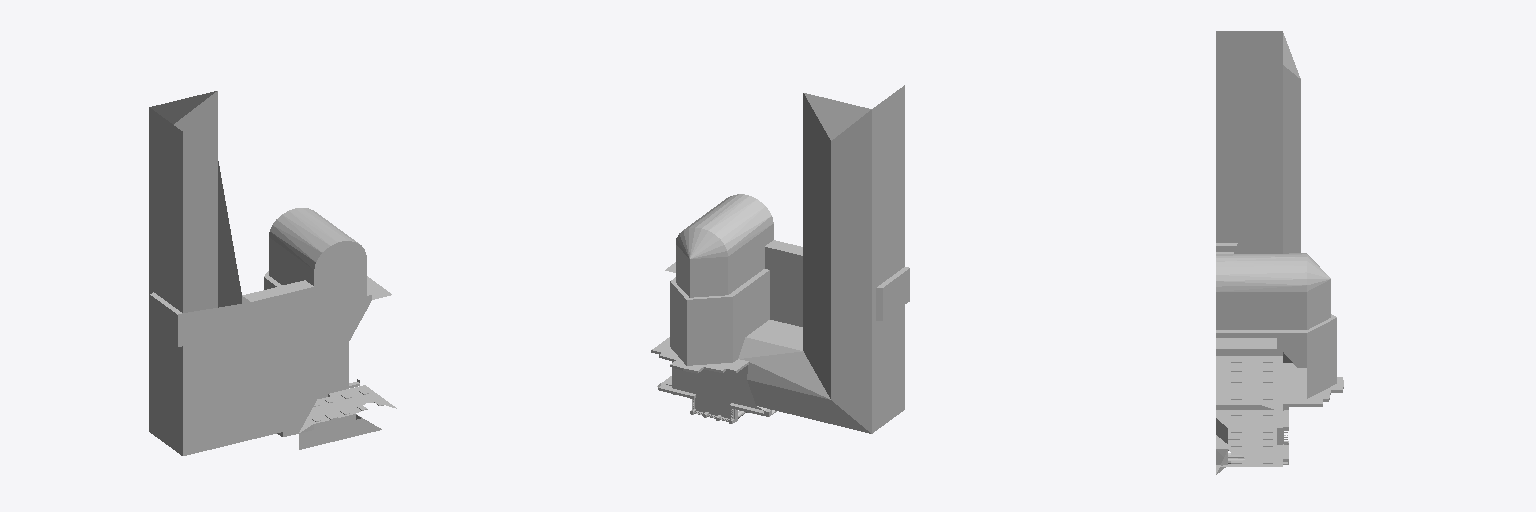
File: muzemu jedna druga.obj
The picture shows the model from 3 angles: view 1: azimuth 30°, elevation 25°; view 2: azimuth 150°, elevation 25°; view 3: azimuth 270°, elevation 25°; orthographic projection.
Parts seen in each view (by area): view 1: Muzueum_głó_obj_0; view 2: Muzueum_głó_obj_0; view 3: Muzueum_głó_obj_0.
Part boxes in pixels (left/top/right/bottom): Muzueum_głó_obj_0: left=149, top=91, right=396, bottom=455; Muzueum_głó_obj_0: left=651, top=85, right=909, bottom=433; Muzueum_głó_obj_0: left=1216, top=31, right=1343, bottom=474.
Size of the model in its own units: 0.0267 by 0.0401 by 0.0134.